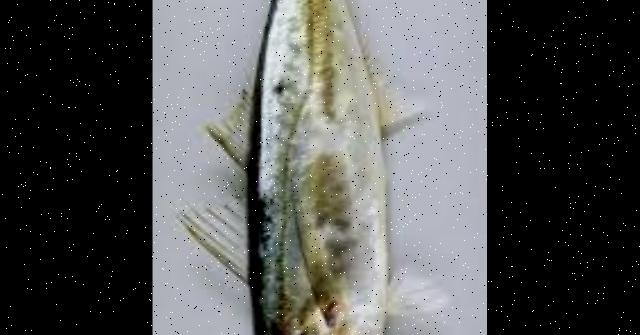Sirip Anal: (315, 0, 444, 133)
Sirip Dada: (287, 171, 352, 335)
Sirip Perut: (367, 264, 456, 330)
Sirip Punggung: (170, 70, 264, 280)
